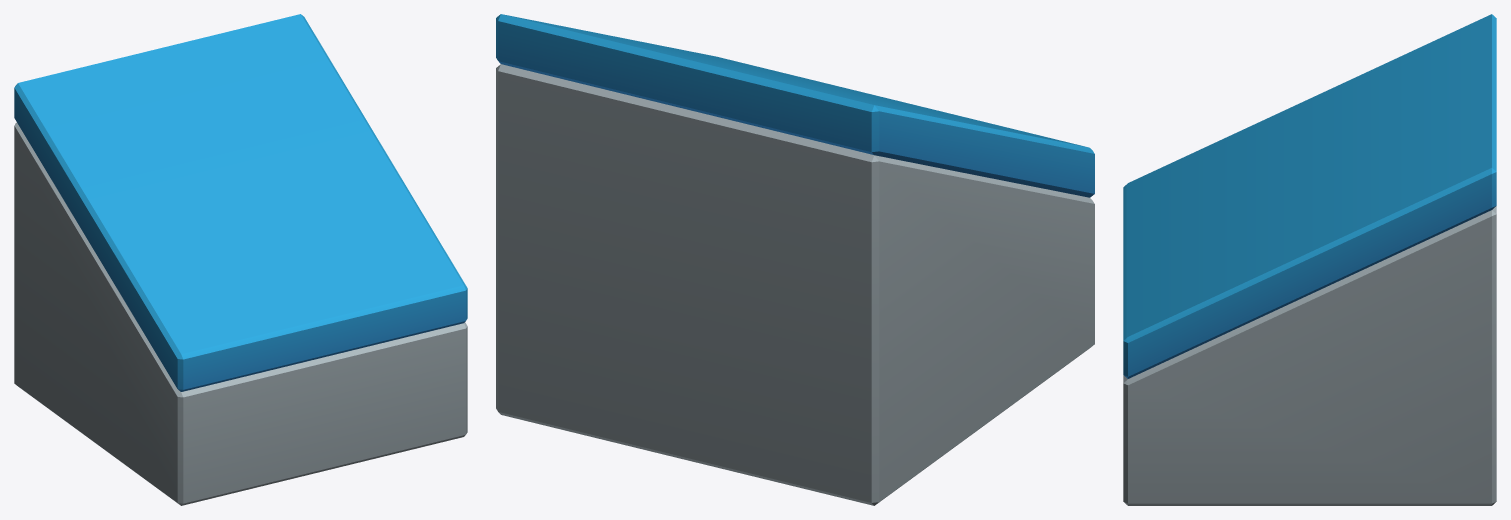
File: platform_slope_4x4x4_blue.glb
3 renders of one model, left to right at view 1: azimuth 30°, elevation 25°; view 2: azimuth 150°, elevation 25°; view 3: azimuth 270°, elevation 25°, orthographic. The views are drawn at different scales.
Visible parts, largest first — view 1: platform_slope_4x4x4_blue; view 2: platform_slope_4x4x4_blue; view 3: platform_slope_4x4x4_blue.
Boxes of the visible parts, x1,y1,x2,y2 form: platform_slope_4x4x4_blue: (14, 14, 467, 505); platform_slope_4x4x4_blue: (496, 14, 1094, 505); platform_slope_4x4x4_blue: (1123, 14, 1496, 505).
Size of the model in its own units: 4 by 4 by 4.
Materials: 1 (1 with a texture image).
